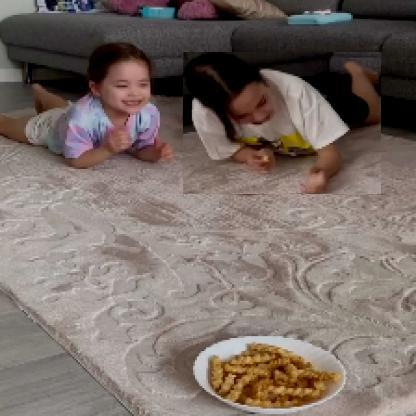child: (184, 53, 383, 196), (1, 43, 174, 170)
